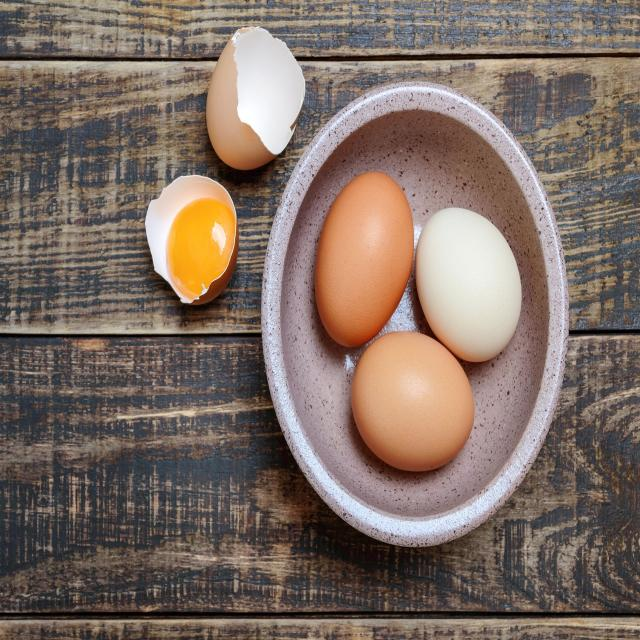huevos: (309, 158, 419, 355), (350, 318, 481, 482), (129, 160, 251, 327)
